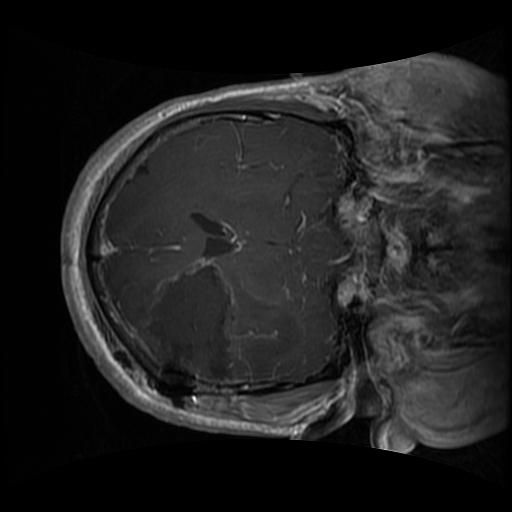glioma: (137, 255, 237, 383)
